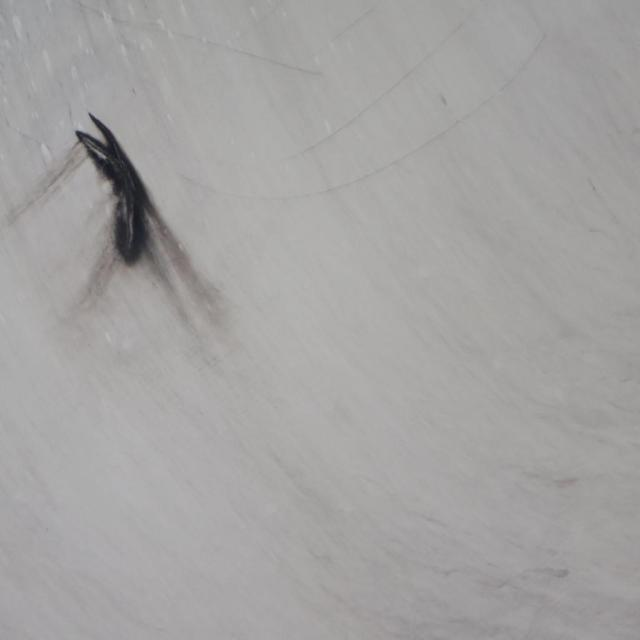crack: (65, 102, 162, 287)
